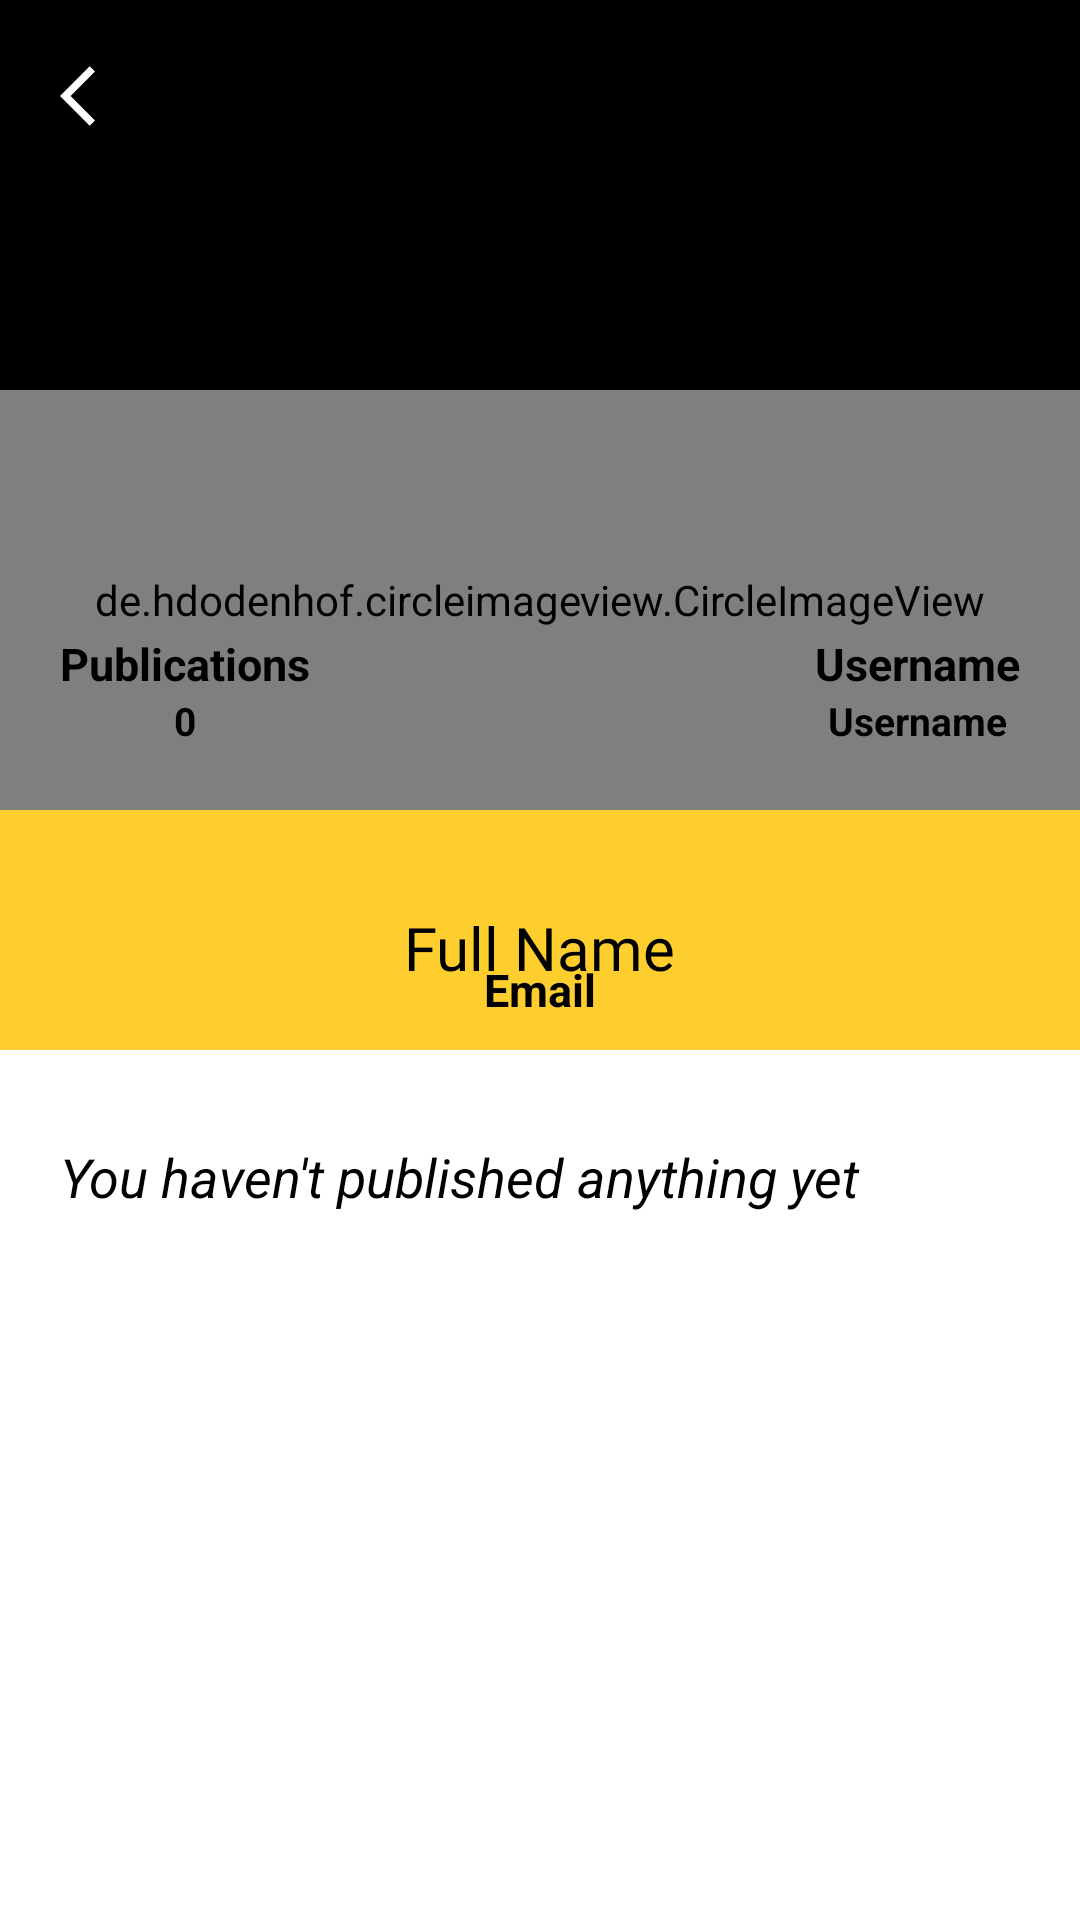

Icons on this 1080*1920 Android screen, each with the point to tap as point (x, y):
back: point (77, 96)
